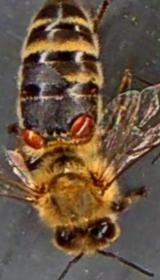varroa_mite: (64, 106, 98, 148), (22, 124, 46, 149)
